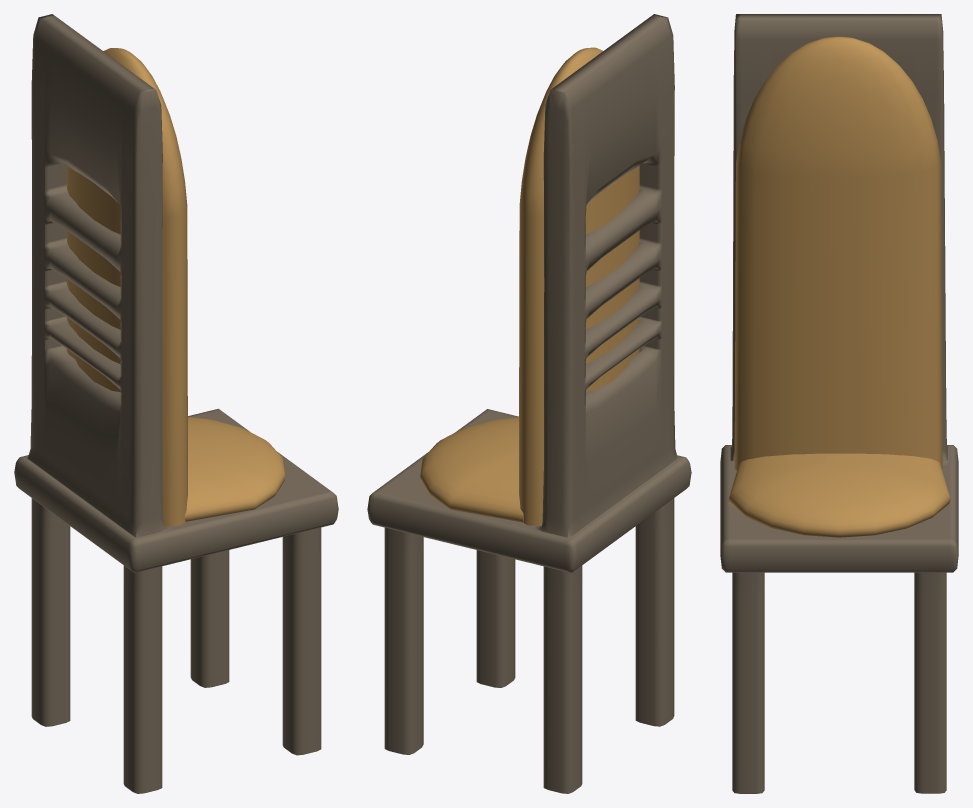
The model's file is chaise_04.fbx.
3 renders of one model, left to right at view 1: azimuth 30°, elevation 25°; view 2: azimuth 150°, elevation 25°; view 3: azimuth 270°, elevation 25°, orthographic.
Visible parts, largest first — view 1: pasted__pCube7; view 2: pasted__pCube7; view 3: pasted__pCube7.
Part boxes in pixels (bbox=[...]): pasted__pCube7: bbox=[14, 14, 338, 793]; pasted__pCube7: bbox=[367, 14, 691, 793]; pasted__pCube7: bbox=[720, 14, 958, 793].
Bounding box in the file's own units: 1.92 × 6.16 × 1.92.
